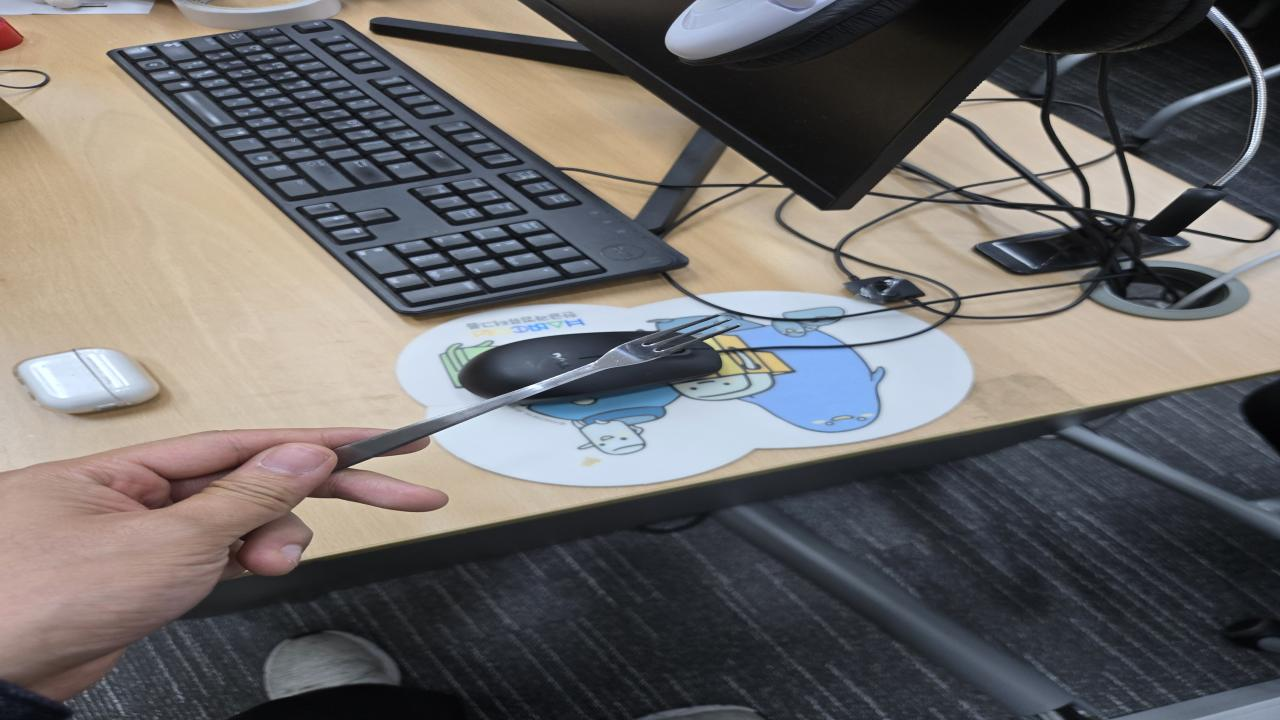fork: (336, 310, 745, 471)
